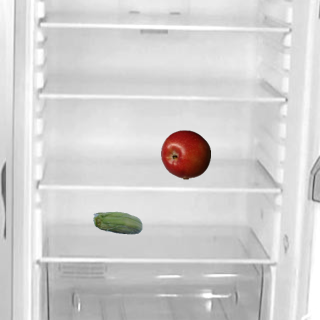Apple Braeburn: (160, 129, 210, 179)
Corn Husk: (92, 199, 142, 249)
